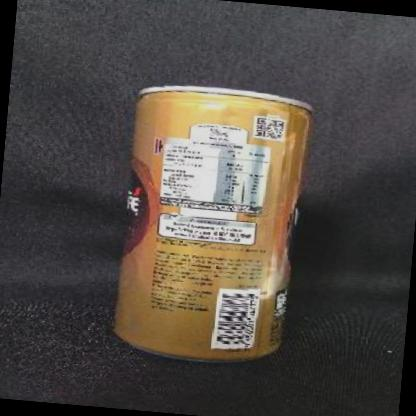alumunium_can: (111, 80, 315, 369)
